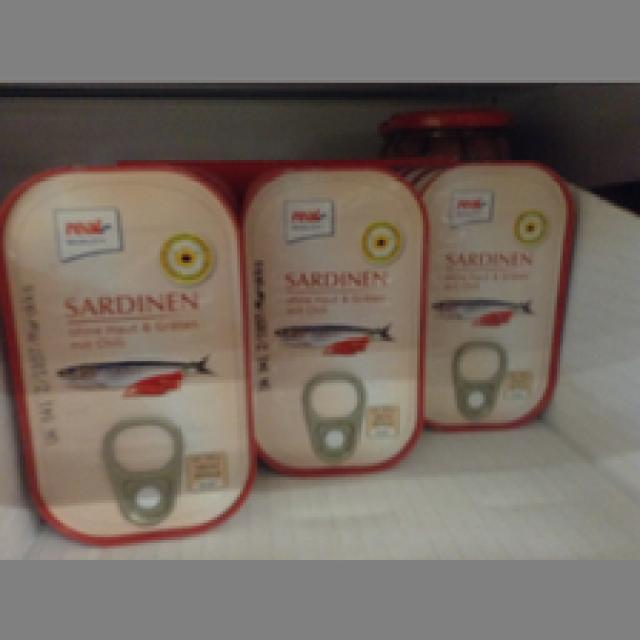groceries: (0, 163, 257, 543), (240, 157, 426, 474), (420, 160, 574, 429)
